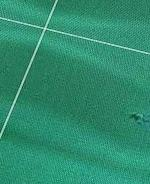knot: (129, 109, 149, 129)
